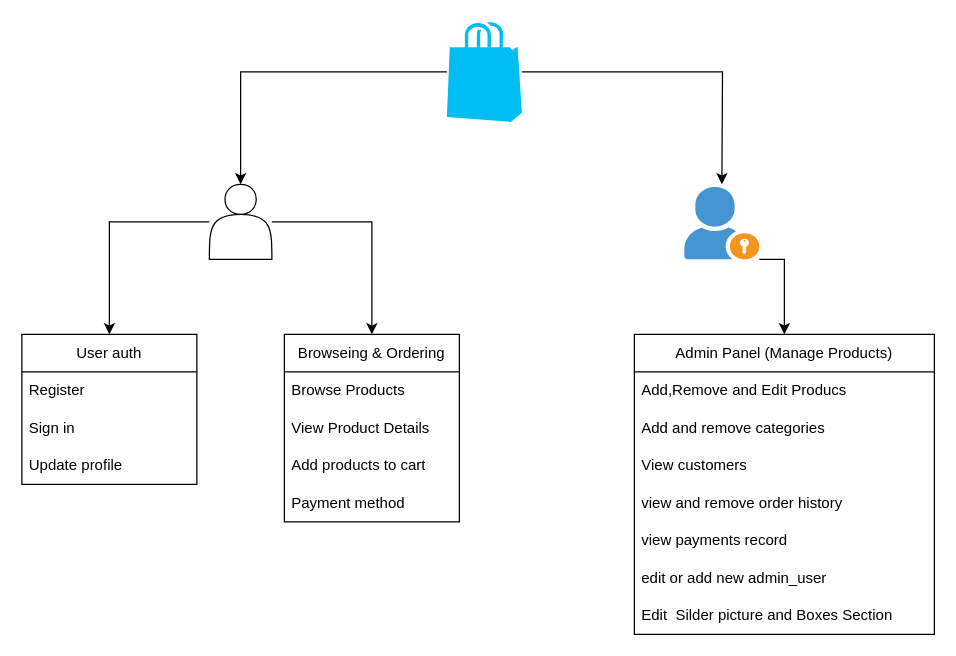
Some shapes in this 956 by 656 pixel diagram are drawn without their labels. The centre of each missing label's shape, as x and y in pixels:
"Admin" belongs at (x=721, y=222).
"User" belongs at (x=240, y=221).
